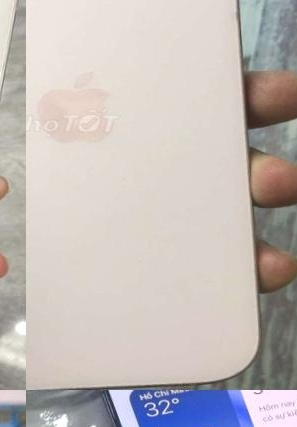scratch: (232, 8, 241, 20)
